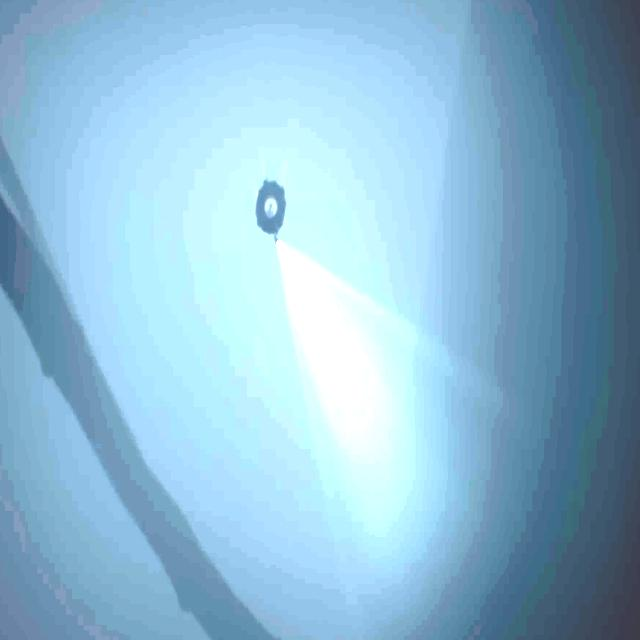submarine: (256, 178, 286, 246)
